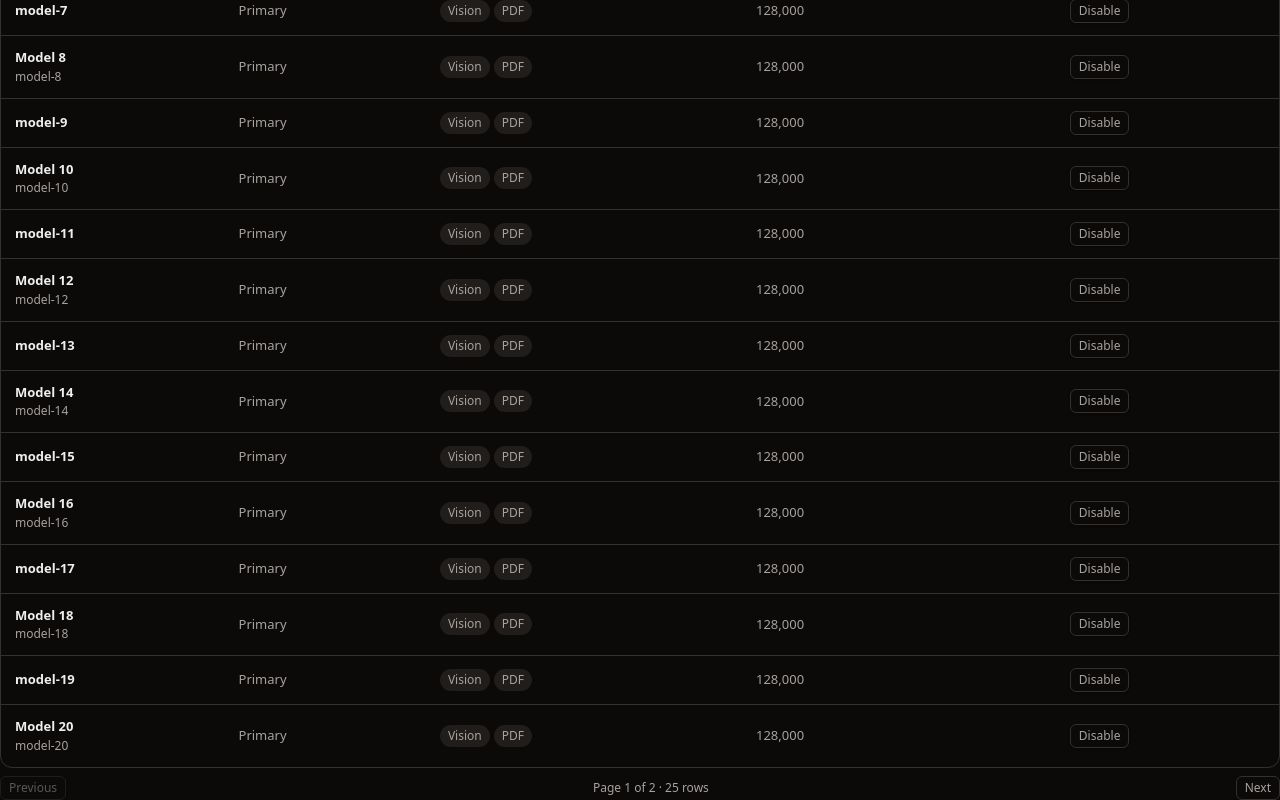
model catalog pagination, search and formatting › renders one 20-row page at a time and pages forward
(page scrolled)
Expected: the text with test id "pager-status" shows "Page 1 of 2", [593, 778, 709, 796]
Click the button with test id "pager-next" at point(1258, 788), box [1236, 776, 1279, 799]
(page scrolled)
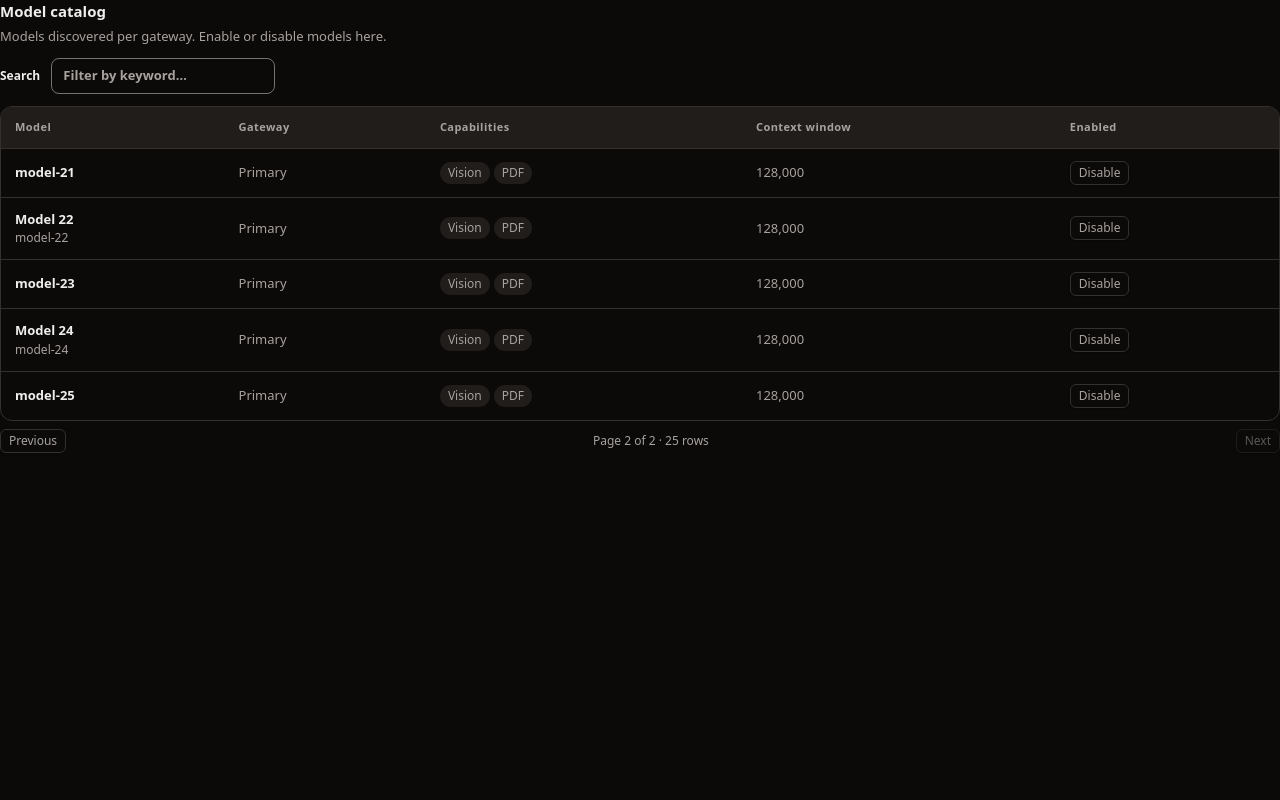
Type "model-1" into the search field with test id "model-search" at point(163, 76), box [51, 58, 275, 94]
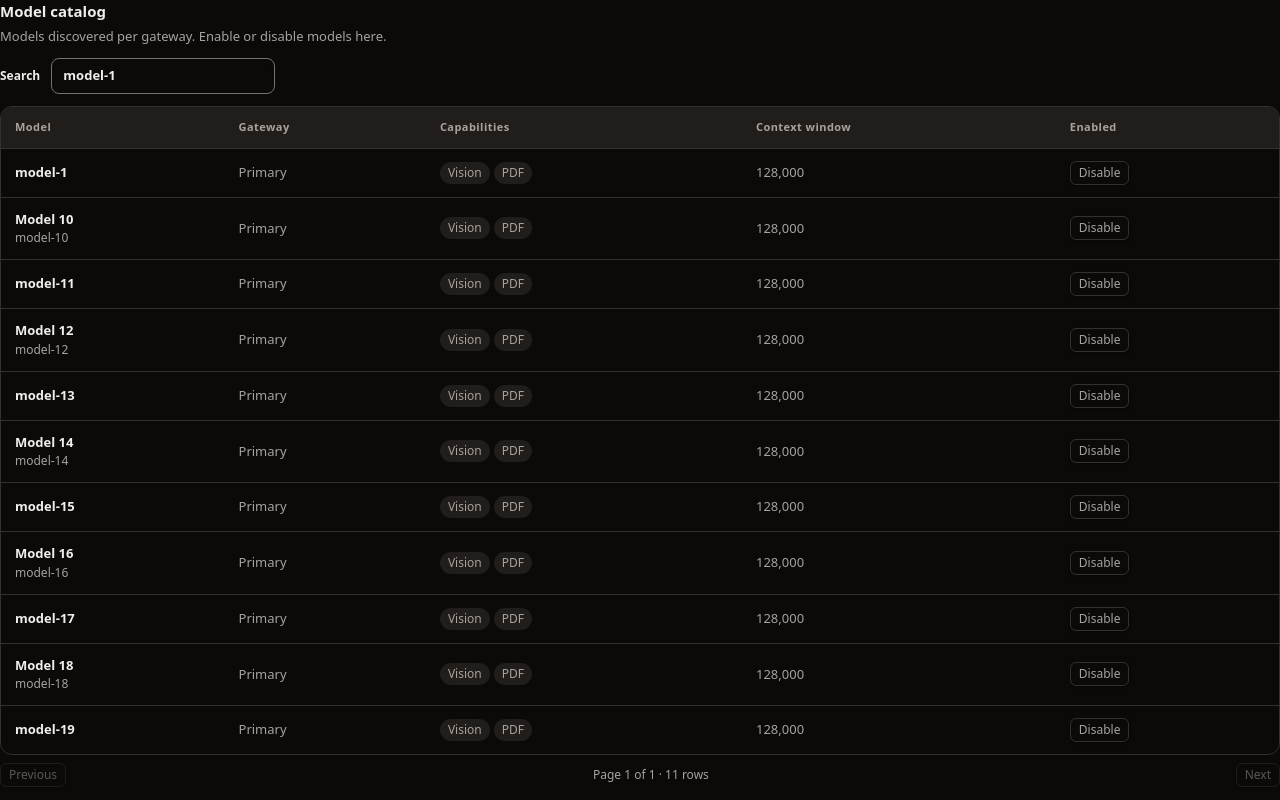
Expected: the text with test id "pager-status" shows "Page 1 of 1", [593, 766, 709, 783]
